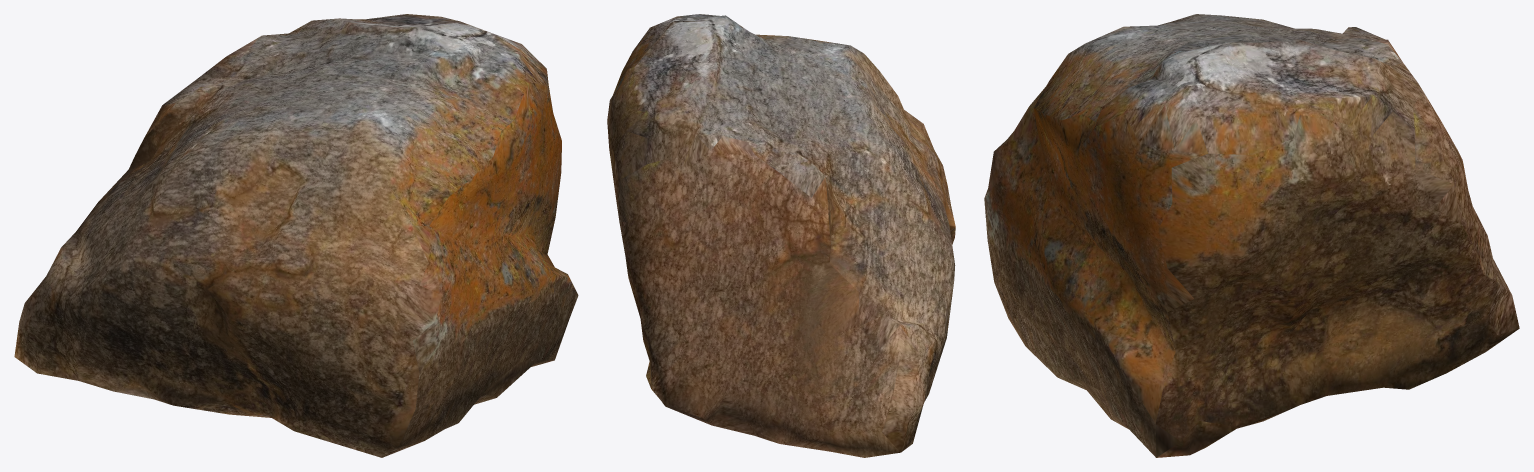
File: prock_e.glb
3 renders of one model, left to right at view 1: azimuth 30°, elevation 25°; view 2: azimuth 150°, elevation 25°; view 3: azimuth 270°, elevation 25°, orthographic. The views are drawn at different scales.
Parts seen in each view (by area): view 1: prock_e; view 2: prock_e; view 3: prock_e.
Part boxes in pixels (x1,y1,x2,y2): prock_e: (14, 14, 578, 457); prock_e: (607, 14, 955, 457); prock_e: (984, 14, 1519, 457).
Bounding box in the file's own units: 2.2 × 1.65 × 2.19.
1 material, 1 textured.
